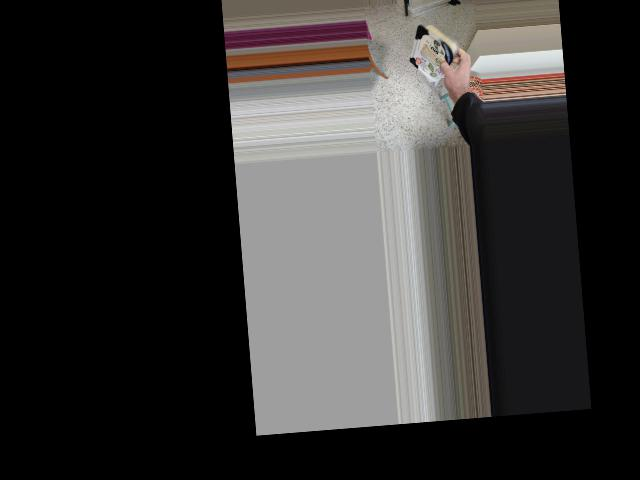cheese: (399, 20, 477, 81)
